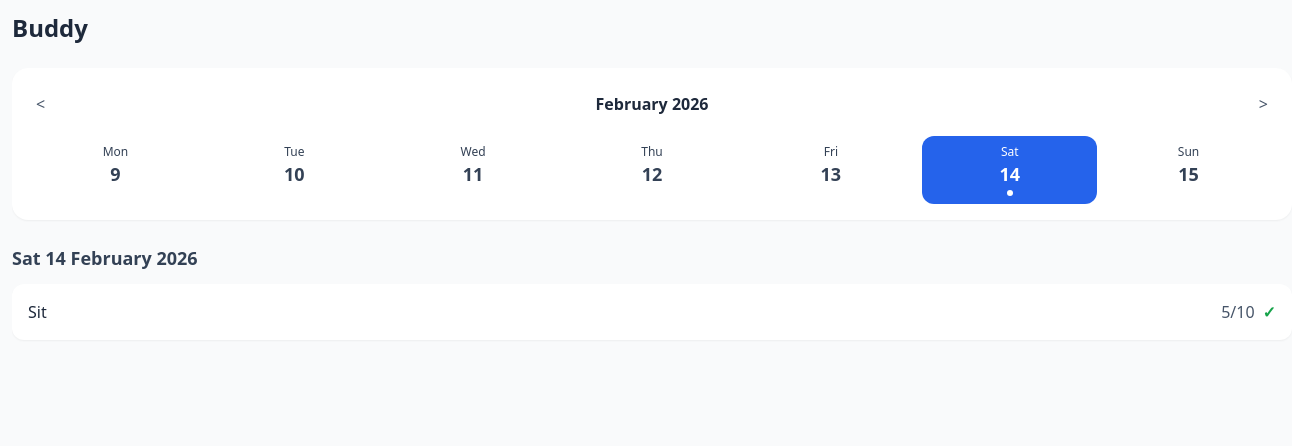
Test: Progress › remove button deletes and refreshes
Click the text "Sit" at point(37, 312), box [28, 300, 47, 324]
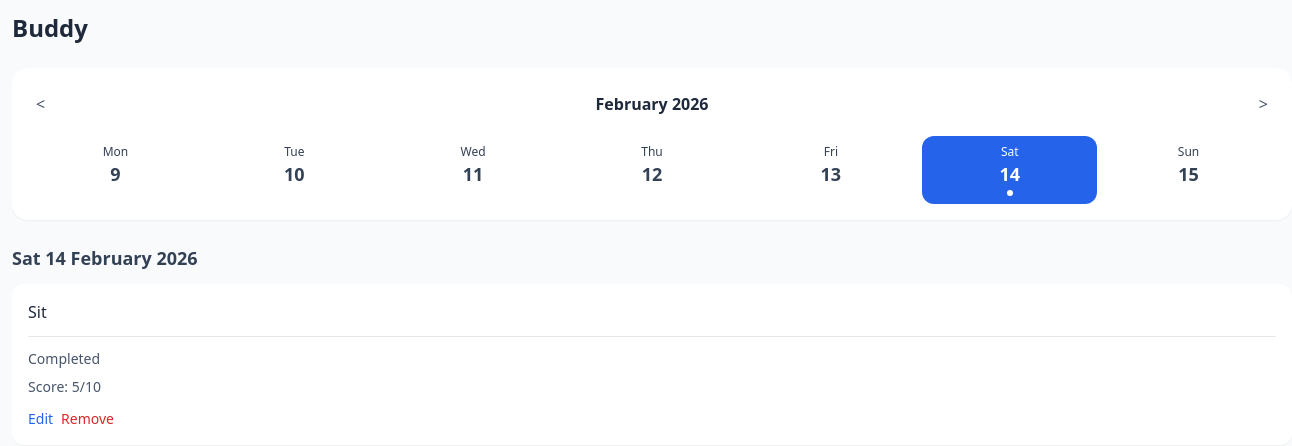
expect the button "Remove" is shown: met
Click the button "Remove" at point(88, 419), box [61, 409, 114, 429]
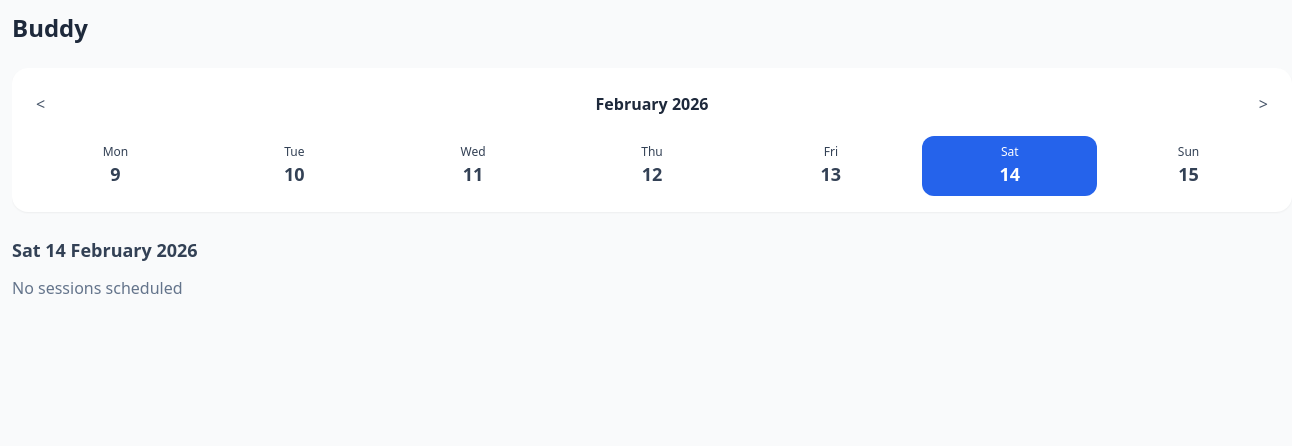
expect the text "No sessions scheduled" is shown: met, box [12, 277, 182, 299]
